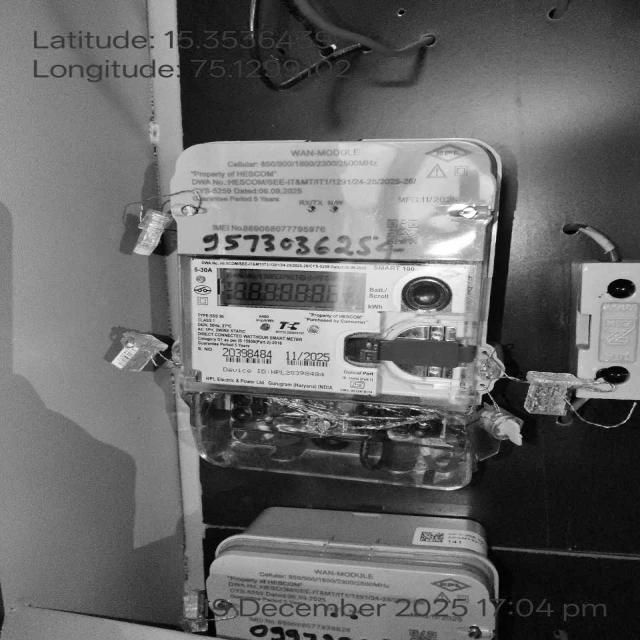meter: (164, 140, 498, 405)
